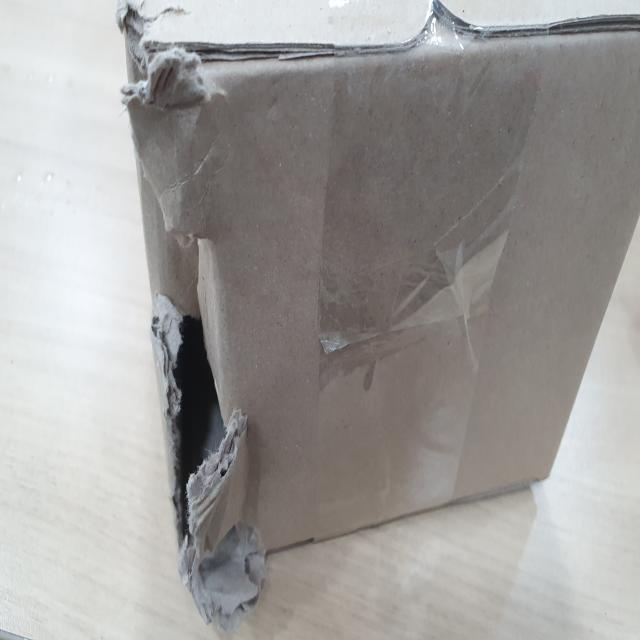hole: (160, 294, 262, 572)
